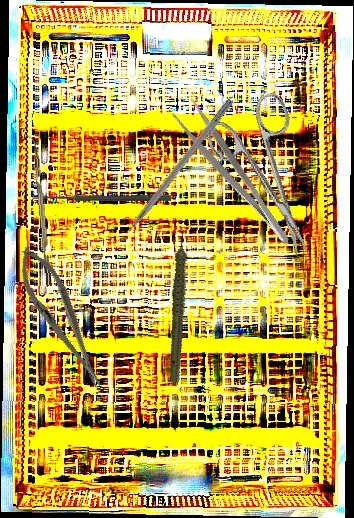Chopper: (26, 133, 52, 288)
Dressing Forceps: (169, 96, 295, 256)
Handpiece: (137, 224, 225, 385)
Iris Scissors: (199, 89, 340, 272)
Needle Holder: (7, 239, 114, 396)
Pusher: (111, 96, 235, 250)
Surgical Spoon: (32, 194, 171, 201)
